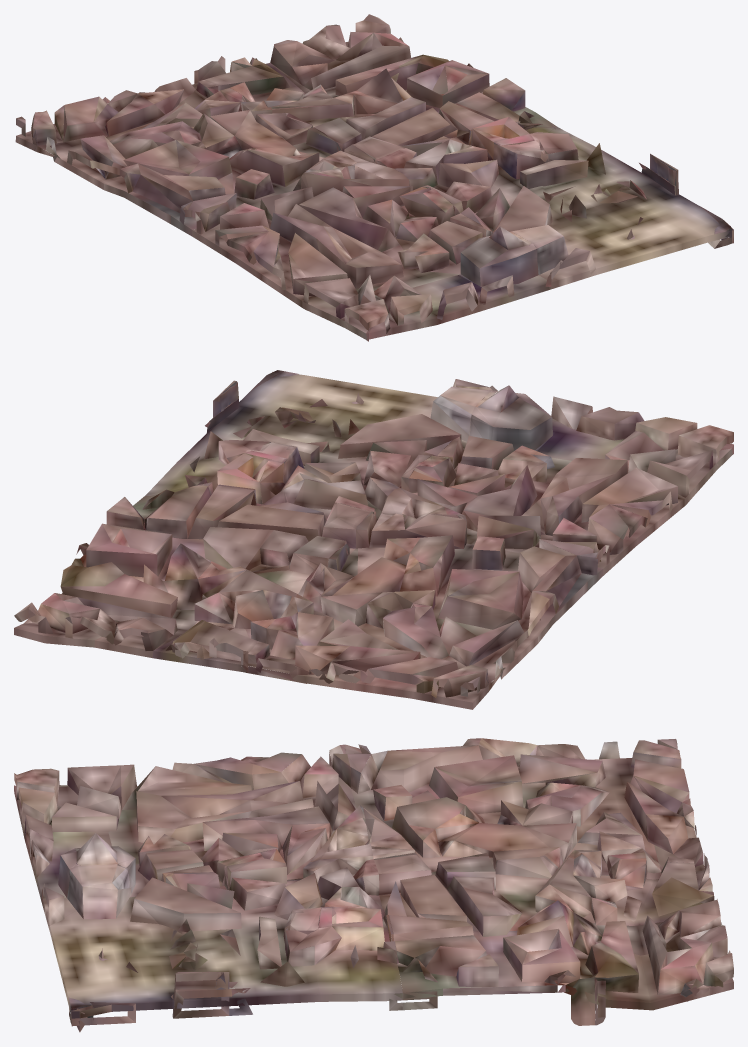
3 renders of one model, top to bottom at view 1: azimuth 30°, elevation 25°; view 2: azimuth 150°, elevation 25°; view 3: azimuth 270°, elevation 25°, orthographic. The views are drawn at different scales.
Parts seen in each view (by area): view 1: Mesh_0; view 2: Mesh_0; view 3: Mesh_0.
Part boxes in pixels (x1,y1,x2,y2): Mesh_0: (15,14,733,341); Mesh_0: (14,370,733,709); Mesh_0: (14,738,733,1032).
Bounding box in the file's own units: 535 × 96.3 × 659.
Materials: 2 (2 with a texture image).
